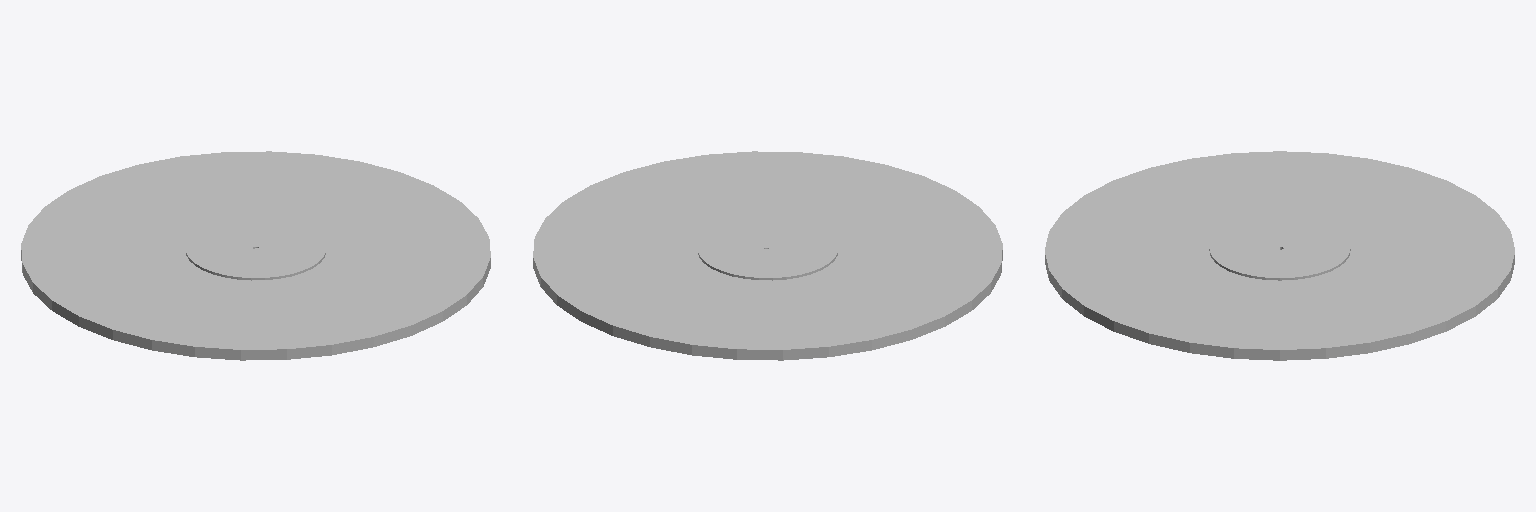
File: record.obj
The picture shows the model from 3 angles: view 1: azimuth 30°, elevation 25°; view 2: azimuth 150°, elevation 25°; view 3: azimuth 270°, elevation 25°; orthographic projection.
Parts seen in each view (by area): view 1: Cylinder, Cylinder.001_Cylinder.002; view 2: Cylinder, Cylinder.001_Cylinder.002; view 3: Cylinder, Cylinder.001_Cylinder.002.
Part boxes in pixels (left/top/right/bottom): Cylinder: left=21, top=151, right=490, bottom=360; Cylinder.001_Cylinder.002: left=186, top=219, right=325, bottom=280; Cylinder: left=533, top=151, right=1002, bottom=360; Cylinder.001_Cylinder.002: left=698, top=219, right=837, bottom=280; Cylinder: left=1045, top=151, right=1514, bottom=360; Cylinder.001_Cylinder.002: left=1209, top=219, right=1350, bottom=280.
Size of the model in its own units: 2 by 0.0715 by 2.